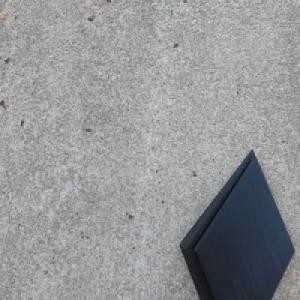PlasticPart: (178, 146, 295, 300)
